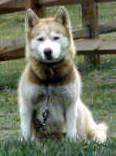dog: (17, 6, 107, 142)
